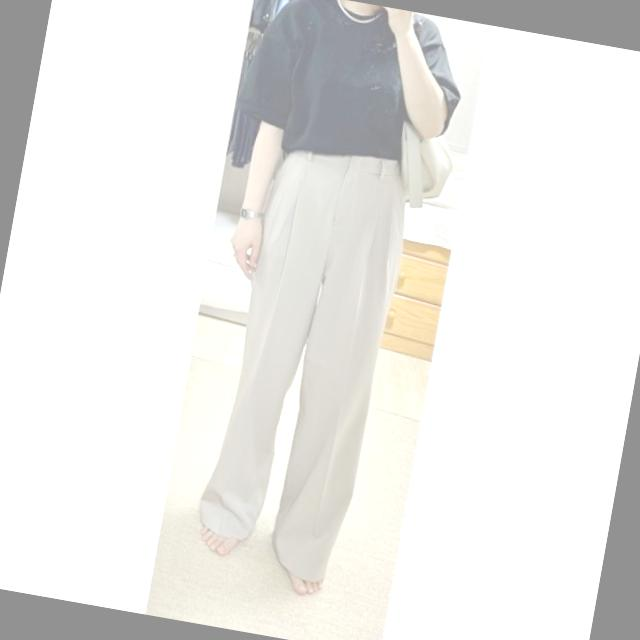shortsleeve: (238, 0, 477, 183)
slacks: (188, 141, 416, 589)
